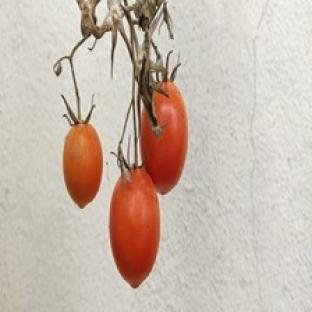Tomato: (111, 169, 160, 288), (140, 81, 188, 193), (63, 123, 103, 208)
